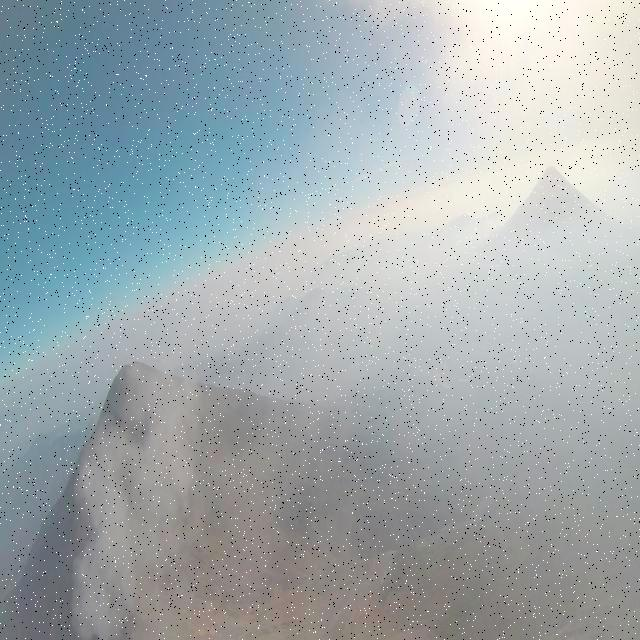Plume: (74, 360, 210, 640)
